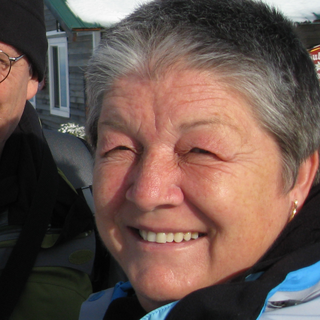eye: (176, 141, 224, 165)
